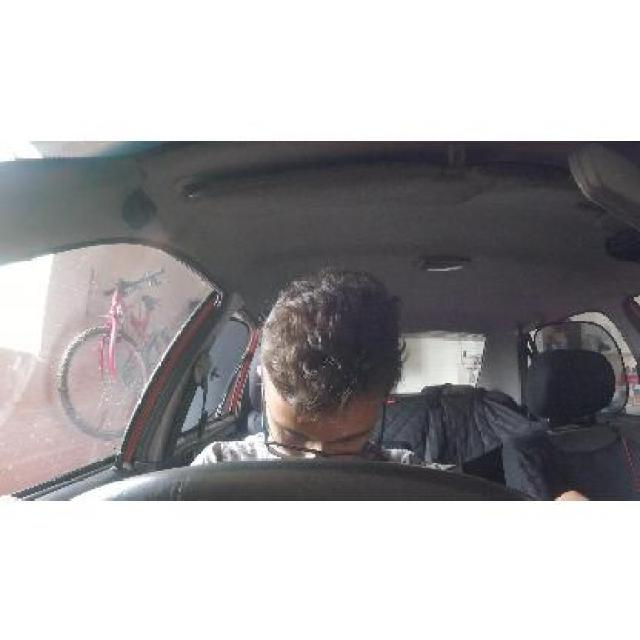drowsy: (255, 269, 411, 460)
